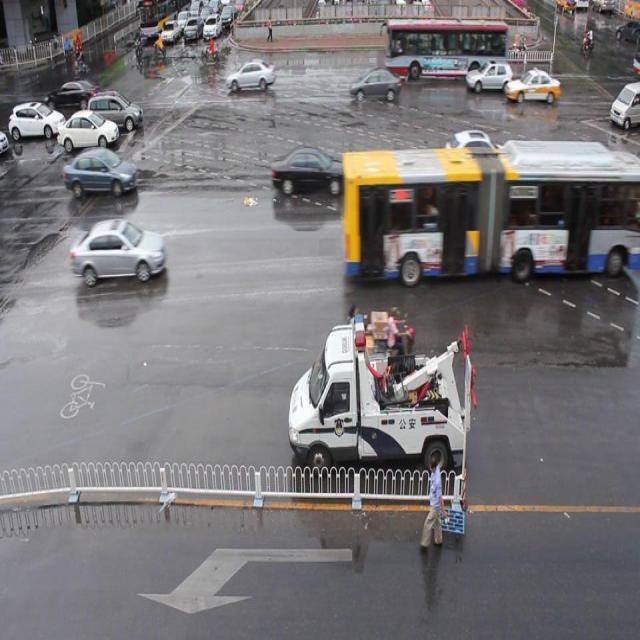car: (69, 219, 166, 280), (271, 145, 348, 195), (63, 146, 136, 196), (443, 128, 510, 178), (503, 68, 559, 105), (348, 67, 401, 102), (226, 58, 276, 93), (465, 59, 513, 92)
van: (340, 138, 640, 270), (381, 18, 506, 77)
